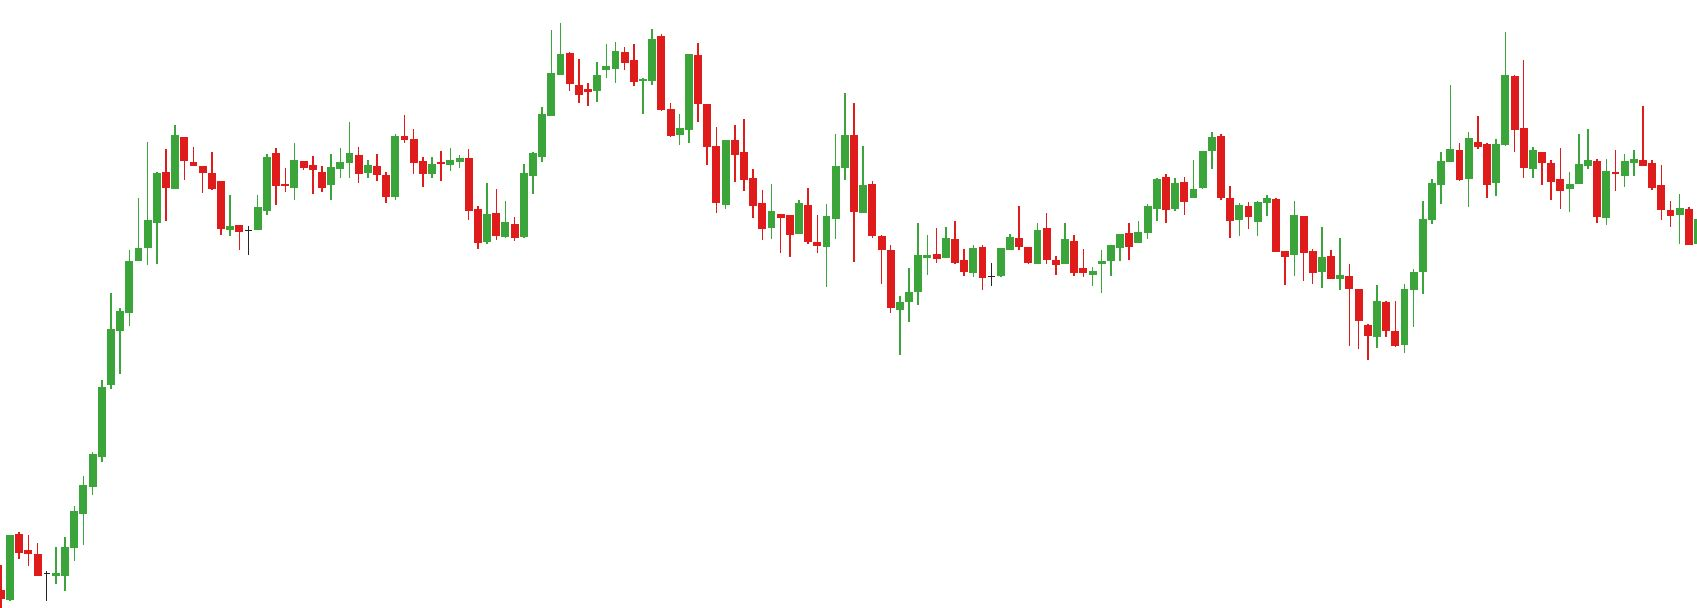buy: (821, 171, 923, 361)
sell: (1444, 14, 1521, 164), (603, 25, 669, 97)
